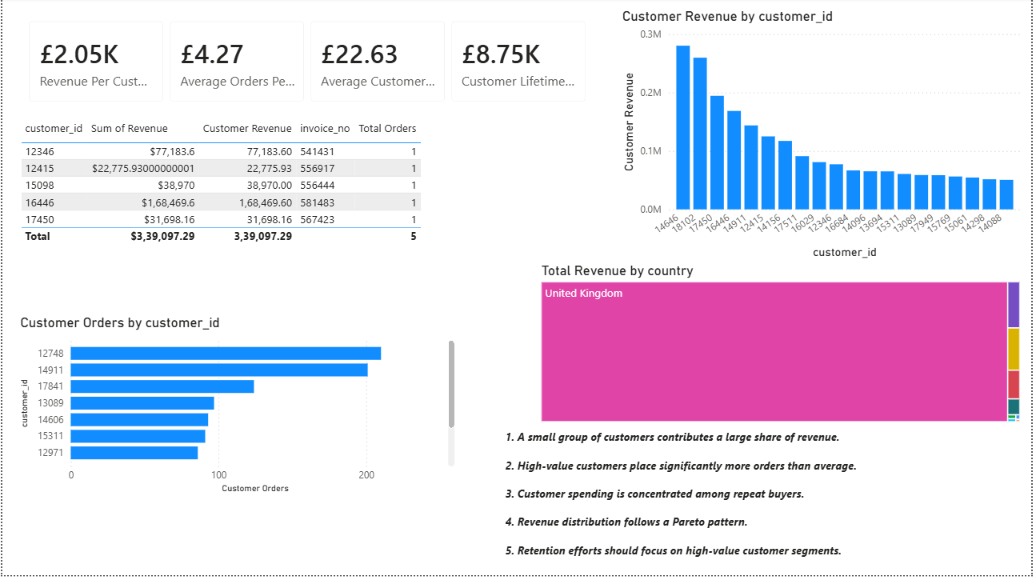

This screenshot's page, from the dashboard's own definition file:
{"tool":"powerbi","page":{"name":"CUSTOMER ANALYSIS","canvas":[1280,720],"ordinal":2},"visuals":[{"type":"cardVisual","fields":{"Data":["public ecommerce_data.Revenue Per Customer","public ecommerce_data.Average Orders Per Customer","public ecommerce_data.Average Customer Revenue","public ecommerce_data.Customer Lifetime Value"]},"box":[16.5,12.3,727.3,134.5],"z":0},{"type":"tableEx","fields":{"Values":["public ecommerce_data.customer_id","Sum(public ecommerce_data.Revenue)","public ecommerce_data.Customer Revenue","public ecommerce_data.invoice_no","public ecommerce_data.Total Orders"]},"box":[17.8,146.8,550.3,212.7],"z":1000},{"type":"clusteredColumnChart","fields":{"Category":["public ecommerce_data.customer_id"],"Y":["public ecommerce_data.Customer Revenue"]},"box":[765.7,12.3,505,317],"z":2000},{"type":"barChart","fields":{"Category":["public ecommerce_data.customer_id"],"Y":["public ecommerce_data.Customer Orders"]},"box":[17.8,393.8,550.3,227.8],"z":3000},{"type":"treemap","fields":{"Group":["public ecommerce_data.country"],"Values":["public ecommerce_data.Total Revenue"]},"box":[665.5,329.3,605.1,203.1],"z":4000},{"type":"textbox","box":[620.2,532.4,650.4,168.8],"z":5000}]}

Visuals, with their boxes in screenshot pixels (x1, y1, x2, y2), scaled from the page's 1280x720 canvas onto the 1035x577 screenshot:
cardVisual - public ecommerce_data.Revenue Per Customer x public ecommerce_data.Average Orders Per Customer: {"x1": 13, "y1": 10, "x2": 601, "y2": 118}
tableEx - public ecommerce_data.customer_id x Sum(public ecommerce_data.Revenue): {"x1": 14, "y1": 118, "x2": 459, "y2": 288}
clusteredColumnChart - public ecommerce_data.customer_id x public ecommerce_data.Customer Revenue: {"x1": 619, "y1": 10, "x2": 1027, "y2": 264}
barChart - public ecommerce_data.customer_id x public ecommerce_data.Customer Orders: {"x1": 14, "y1": 316, "x2": 459, "y2": 498}
treemap - public ecommerce_data.country x public ecommerce_data.Total Revenue: {"x1": 538, "y1": 264, "x2": 1027, "y2": 427}
textbox: {"x1": 501, "y1": 427, "x2": 1027, "y2": 562}
